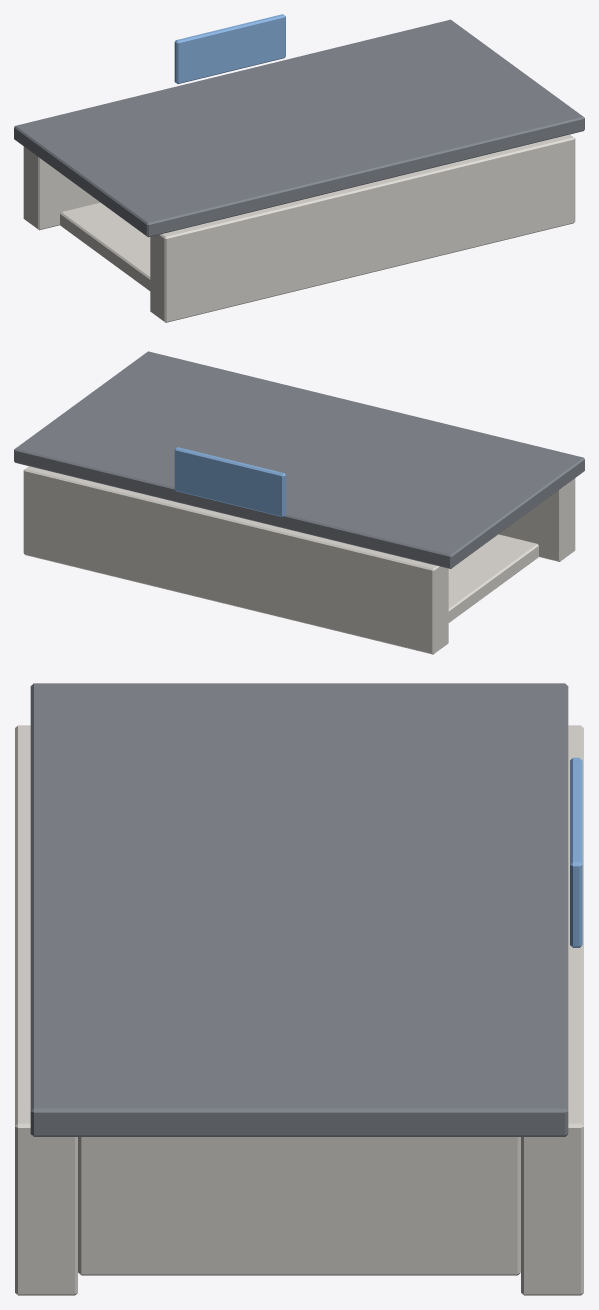
The model's file is 构筑_地下通道口_01.fbx.
The picture shows the model from 3 angles, top to bottom: view 1: azimuth 30°, elevation 25°; view 2: azimuth 150°, elevation 25°; view 3: azimuth 270°, elevation 25°; orthographic projection. The views are drawn at different scales.
Visible parts, largest first — view 1: 顶棚.001, 侧墙, 标识牌, 台阶.001; view 2: 顶棚.001, 侧墙, 标识牌, 台阶.001; view 3: 顶棚.001, 台阶.001, 侧墙, 标识牌.
Part boxes in pixels (left/top/right/bottom): 顶棚.001: left=14, top=19, right=584, bottom=237; 侧墙: left=23, top=134, right=575, bottom=322; 标识牌: left=174, top=14, right=285, bottom=83; 台阶.001: left=60, top=202, right=150, bottom=290; 顶棚.001: left=14, top=351, right=584, bottom=568; 侧墙: left=23, top=466, right=575, bottom=654; 标识牌: left=174, top=447, right=285, bottom=517; 台阶.001: left=448, top=534, right=538, bottom=622; 顶棚.001: left=30, top=683, right=568, bottom=1136; 台阶.001: left=78, top=1137, right=520, bottom=1275; 侧墙: left=15, top=725, right=583, bottom=1295; 标识牌: left=570, top=757, right=582, bottom=947.
Bounding box in the file's own units: 640 × 200 × 360.
